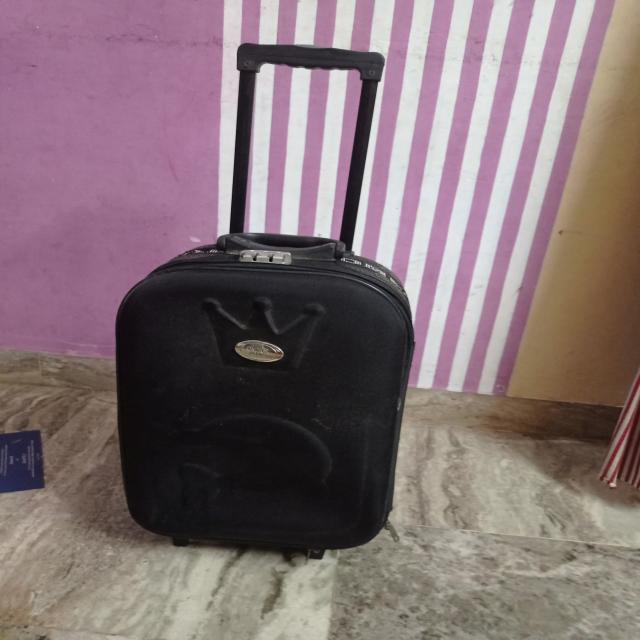suitcaserotation: (109, 40, 419, 561)
